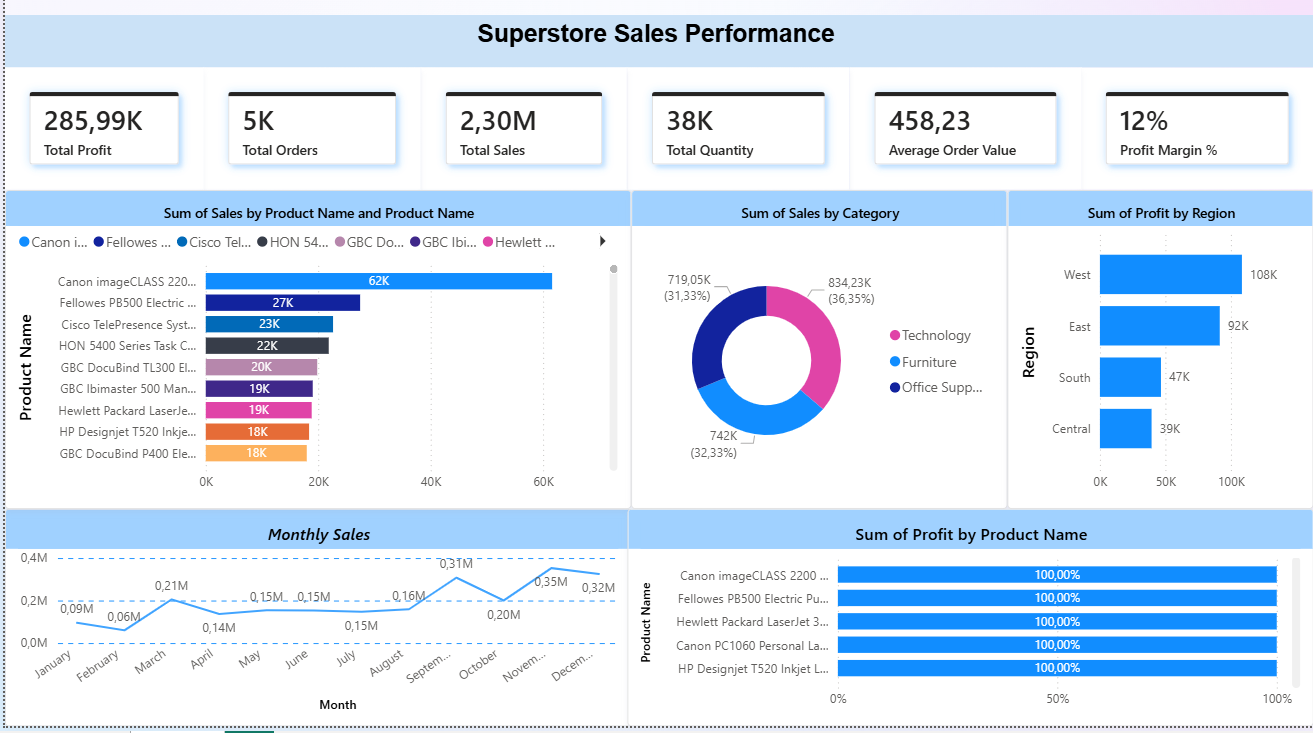

The page's visual inventory and layout, read from the dashboard file:
{"tool":"powerbi","page":{"name":"Page 1","canvas":[1280,720],"ordinal":0},"visuals":[{"type":"cardVisual","fields":{"Data":["Superstore.Profit Margin %"]},"box":[1052.9,75.8,227.4,119.8],"z":0},{"type":"textbox","box":[0,19.6,1280.3,56.3],"z":1000},{"type":"cardVisual","fields":{"Data":["Superstore.Average Order Value"]},"box":[826.6,75.8,226.2,119.8],"z":2000},{"type":"cardVisual","fields":{"Data":["Superstore.Total Quantity"]},"box":[609,75.8,217.7,119.8],"z":3000},{"type":"cardVisual","fields":{"Data":["Superstore.Total Sales"]},"box":[407.2,75.8,201.8,119.8],"z":4000},{"type":"cardVisual","fields":{"Data":["Superstore.Total Orders"]},"box":[194.4,75.8,212.8,119.8],"z":5000},{"type":"cardVisual","fields":{"Data":["Superstore.Total Profit"]},"box":[0,75.8,194.4,119.8],"z":6000},{"type":"lineChart","title":"Monthly Sales ","fields":{"Category":["Superstore.Order Date.Variation.Date Hierarchy.Month"],"Y":["Sum(Superstore.Sales)"]},"box":[0,507.5,612.6,212.8],"z":7000},{"type":"barChart","fields":{"Y":["Sum(Superstore.Sales)"],"Category":["Superstore.Product Name"]},"box":[0,195.7,612.6,311.8],"z":8000},{"type":"donutChart","fields":{"Y":["Sum(Superstore.Sales)"],"Category":["Superstore.Category"]},"box":[612.6,195.7,368.1,311.8],"z":9000},{"type":"barChart","fields":{"Y":["Sum(Superstore.Profit)"],"Category":["Superstore.Region"]},"box":[980.7,195.7,299.6,311.8],"z":10000},{"type":"hundredPercentStackedBarChart","fields":{"Category":["Superstore.Product Name"],"Y":["Sum(Superstore.Profit)"]},"box":[609,507.5,671.3,212.8],"z":11000}]}

Visuals, with their boxes in screenshot pixels (x1, y1, x2, y2), scaled from the page's 1280x720 canvas onto the 1313x733 screenshot:
cardVisual - Superstore.Profit Margin %: x1=1080, y1=77, x2=1312, y2=199
textbox: x1=0, y1=20, x2=1312, y2=77
cardVisual - Superstore.Average Order Value: x1=848, y1=77, x2=1080, y2=199
cardVisual - Superstore.Total Quantity: x1=625, y1=77, x2=848, y2=199
cardVisual - Superstore.Total Sales: x1=418, y1=77, x2=625, y2=199
cardVisual - Superstore.Total Orders: x1=199, y1=77, x2=418, y2=199
cardVisual - Superstore.Total Profit: x1=0, y1=77, x2=199, y2=199
"Monthly Sales " lineChart: x1=0, y1=517, x2=628, y2=732
barChart - Sum(Superstore.Sales) x Superstore.Product Name: x1=0, y1=199, x2=628, y2=517
donutChart - Sum(Superstore.Sales) x Superstore.Category: x1=628, y1=199, x2=1006, y2=517
barChart - Sum(Superstore.Profit) x Superstore.Region: x1=1006, y1=199, x2=1312, y2=517
hundredPercentStackedBarChart - Superstore.Product Name x Sum(Superstore.Profit): x1=625, y1=517, x2=1312, y2=732
